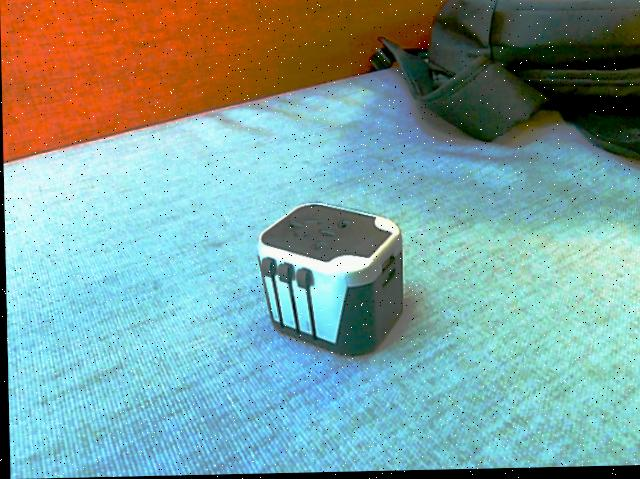adapter: (253, 201, 403, 360)
